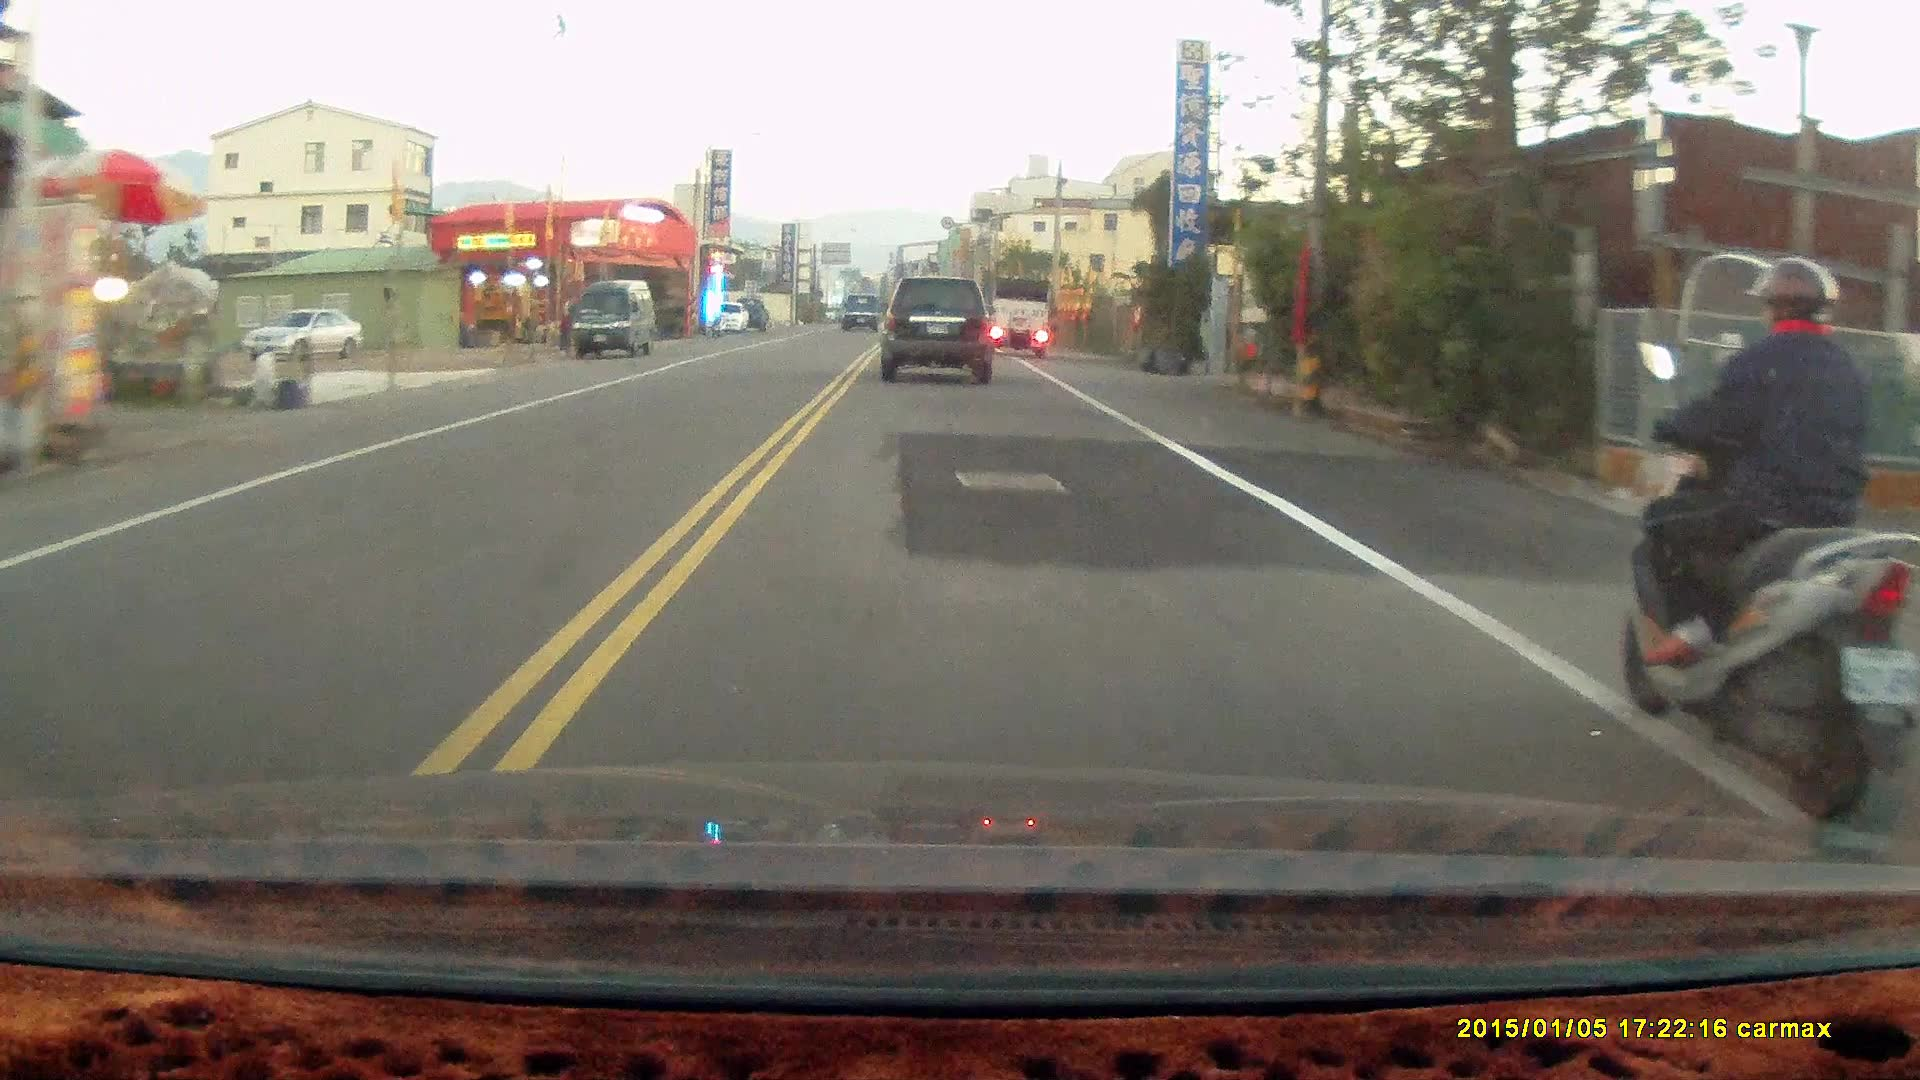rider: (1614, 253, 1908, 818)
vehicle: (880, 278, 1000, 386), (571, 283, 656, 362), (242, 312, 363, 364), (989, 272, 1054, 357)
